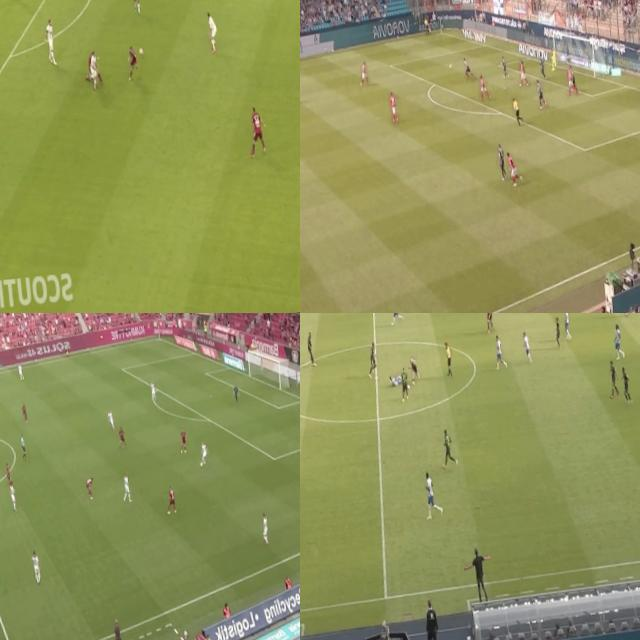ball: (404, 375, 414, 394), (137, 44, 144, 56), (199, 460, 204, 468), (448, 62, 452, 70)
player: (248, 102, 268, 156), (422, 465, 440, 525), (438, 424, 458, 472), (42, 16, 58, 66), (202, 5, 219, 50), (302, 326, 318, 372), (86, 44, 100, 91), (493, 332, 509, 372), (518, 326, 532, 367), (398, 366, 412, 404), (606, 359, 620, 396), (508, 150, 522, 186), (164, 484, 178, 519), (85, 54, 100, 86), (496, 142, 508, 182), (476, 73, 492, 102), (366, 339, 378, 376), (611, 325, 623, 362), (30, 546, 41, 586), (534, 78, 547, 110), (565, 64, 578, 95), (119, 471, 132, 502), (386, 368, 406, 388), (259, 510, 270, 546), (551, 313, 562, 349), (559, 313, 573, 341), (516, 58, 528, 88), (6, 480, 18, 510), (621, 368, 632, 400), (388, 90, 398, 124), (177, 424, 188, 454), (357, 60, 369, 87), (482, 313, 496, 336), (565, 66, 576, 95), (198, 438, 208, 468), (462, 56, 474, 80), (499, 54, 509, 80), (4, 461, 14, 486), (538, 55, 547, 81), (230, 380, 239, 405), (149, 380, 158, 405), (410, 354, 419, 379), (85, 474, 94, 498), (117, 422, 126, 446), (128, 0, 142, 15), (549, 46, 557, 70), (107, 409, 115, 432), (16, 361, 24, 383), (20, 400, 28, 422), (388, 313, 400, 327), (637, 81, 640, 114)
